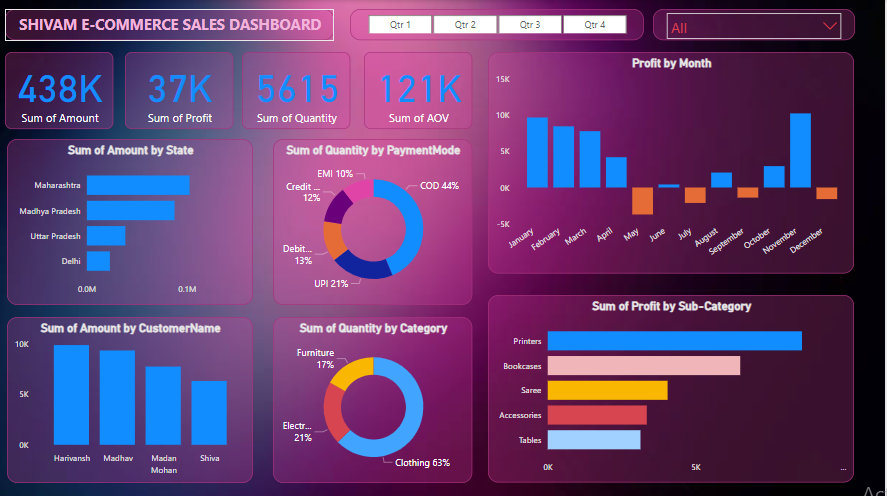

Layout of this report page (visuals, bound fields, positions):
{"tool":"powerbi","page":{"name":"Page 1","canvas":[1280,720],"ordinal":0},"visuals":[{"type":"textbox","box":[11.8,13.4,473.7,45.4],"z":0},{"type":"columnChart","title":"Profit by Month","fields":{"Category":["Orders.Order Date.Variation.Date Hierarchy.Month"],"Y":["Sum(Details.Profit)"]},"box":[707.2,75.6,527.5,319.2],"z":1000},{"type":"barChart","fields":{"Category":["Details.Sub-Category"],"Y":["Sum(Details.Profit)"]},"box":[707.2,425,527.5,270.4],"z":1001},{"type":"donutChart","fields":{"Category":["Details.Category"],"Y":["Sum(Details.Quantity)"]},"box":[398.1,456.9,287.2,238.5],"z":1002},{"type":"donutChart","fields":{"Y":["Sum(Details.Quantity)"],"Category":["Details.PaymentMode"]},"box":[398.1,199.9,287.2,238.5],"z":1003},{"type":"card","fields":{"Values":["Sum(Details.Amount)"]},"box":[11.8,75.6,156.2,110.9],"z":1004},{"type":"card","fields":{"Values":["Sum(Details.Profit)"]},"box":[184.8,75.6,156.2,110.9],"z":1005},{"type":"card","fields":{"Values":["Sum(Details.Quantity)"]},"box":[352.8,75.6,156.2,110.9],"z":1006},{"type":"card","fields":{"Values":["Sum(Details.AOV)"]},"box":[529.1,75.6,156.2,110.9],"z":1007},{"type":"barChart","fields":{"Category":["Orders.State"],"Y":["Sum(Details.Amount)"]},"box":[15.1,199.9,354.4,238.5],"z":1008},{"type":"columnChart","fields":{"Category":["Orders.CustomerName"],"Y":["Sum(Details.Amount)"]},"box":[15,457,354,239],"z":1009},{"type":"slicer","fields":{"Values":["Orders.Order Date.Variation.Date Hierarchy.Quarter"]},"box":[509,13.4,423.3,45.4],"z":1010},{"type":"slicer","fields":{"Values":["Orders.State"]},"box":[944,13.4,290.6,45.4],"z":1011}]}

Visuals, with their boxes in screenshot pixels (x1, y1, x2, y2), scaled from the page's 1280x720 canvas onto the 887x496 screenshot:
textbox: (8,9,336,41)
"Profit by Month" columnChart: (490,52,856,272)
barChart - Details.Sub-Category x Sum(Details.Profit): (490,293,856,479)
donutChart - Details.Category x Sum(Details.Quantity): (276,315,475,479)
donutChart - Sum(Details.Quantity) x Details.PaymentMode: (276,138,475,302)
card - Sum(Details.Amount): (8,52,116,128)
card - Sum(Details.Profit): (128,52,236,128)
card - Sum(Details.Quantity): (244,52,353,128)
card - Sum(Details.AOV): (367,52,475,128)
barChart - Orders.State x Sum(Details.Amount): (10,138,256,302)
columnChart - Orders.CustomerName x Sum(Details.Amount): (10,315,256,479)
slicer - Orders.Order Date.Variation.Date Hierarchy.Quarter: (353,9,646,41)
slicer - Orders.State: (654,9,856,41)
